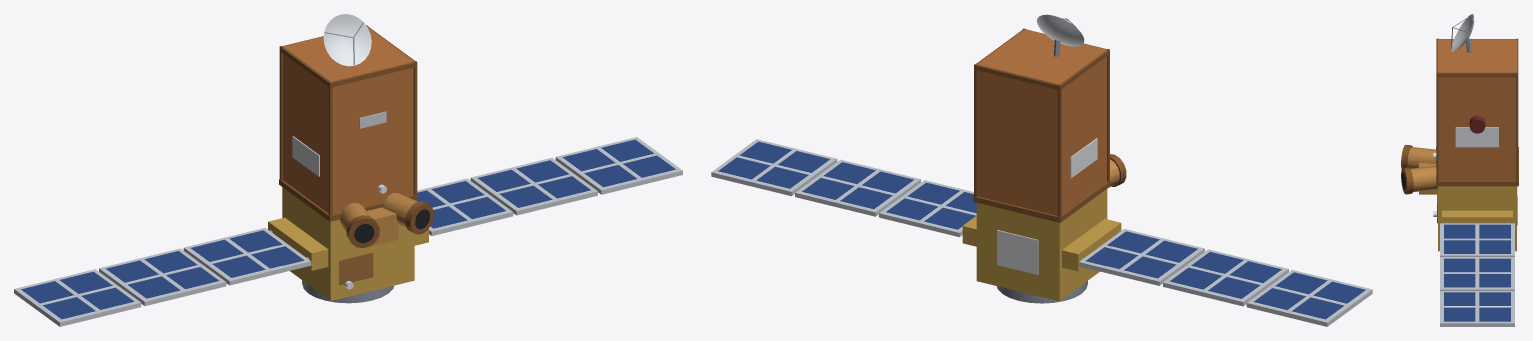
Rendered from amazonia-1.glb.
The picture shows the model from 3 angles, left to right: view 1: azimuth 30°, elevation 25°; view 2: azimuth 150°, elevation 25°; view 3: azimuth 270°, elevation 25°; orthographic projection. The views are drawn at different scales.
Visible parts, largest first — view 1: foil, solar-panel, body; view 2: foil, solar-panel, body; view 3: foil, solar-panel, body.
Boxes of the visible parts, left/top/right/bottom form: foil: left=268, top=25, right=433, bottom=300; solar-panel: left=21, top=139, right=675, bottom=319; body: left=14, top=14, right=682, bottom=326; foil: left=962, top=28, right=1126, bottom=301; solar-panel: left=718, top=141, right=1365, bottom=319; body: left=711, top=14, right=1372, bottom=326; foil: left=1401, top=38, right=1518, bottom=251; solar-panel: left=1444, top=224, right=1510, bottom=321; body: left=1402, top=14, right=1517, bottom=326.
Size of the model in its own units: 7.44 by 3.12 by 1.49.
